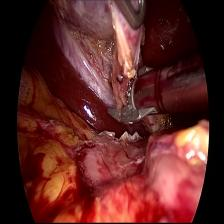Clipper: (104, 62, 155, 130)
Grasper: (112, 0, 150, 29)
